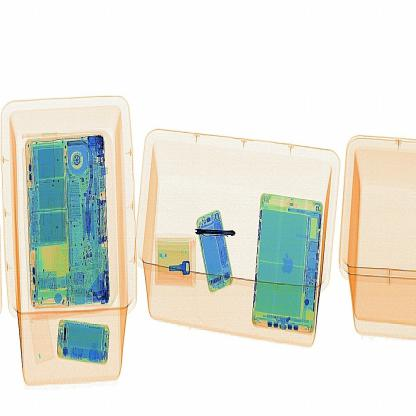knife: (191, 224, 249, 251)
